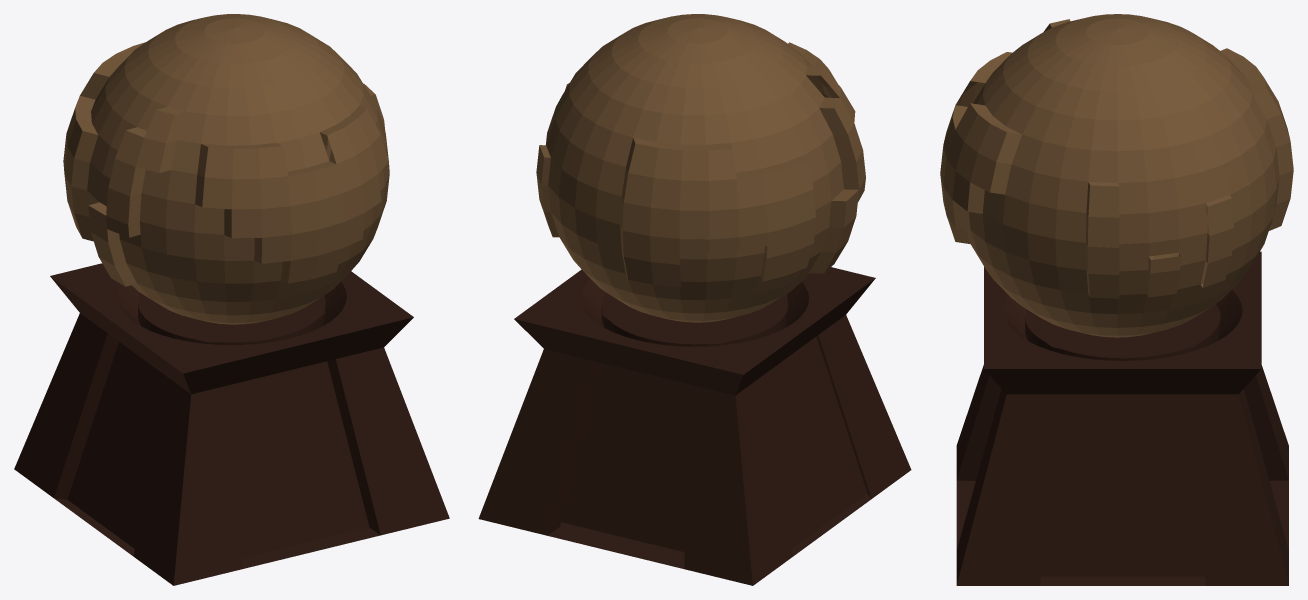
The model's file is Ball.fbx.
3 renders of one model, left to right at view 1: azimuth 30°, elevation 25°; view 2: azimuth 150°, elevation 25°; view 3: azimuth 270°, elevation 25°, orthographic. The views are drawn at different scales.
Parts seen in each view (by area): view 1: Cube, Sphere.001, Sphere; view 2: Cube, Sphere.001, Sphere; view 3: Cube, Sphere.001, Sphere.
Part boxes in pixels (x1,y1,x2,y2): Cube: (14,263,449,585); Sphere.001: (63,14,389,238); Sphere: (64,132,389,324); Cube: (478,267,911,585); Sphere.001: (536,14,865,239); Sphere: (536,173,865,322); Cube: (956,251,1288,585); Sphere.001: (940,14,1293,247); Sphere: (940,170,1293,337).
Size of the model in its own units: 130 by 203 by 132.
